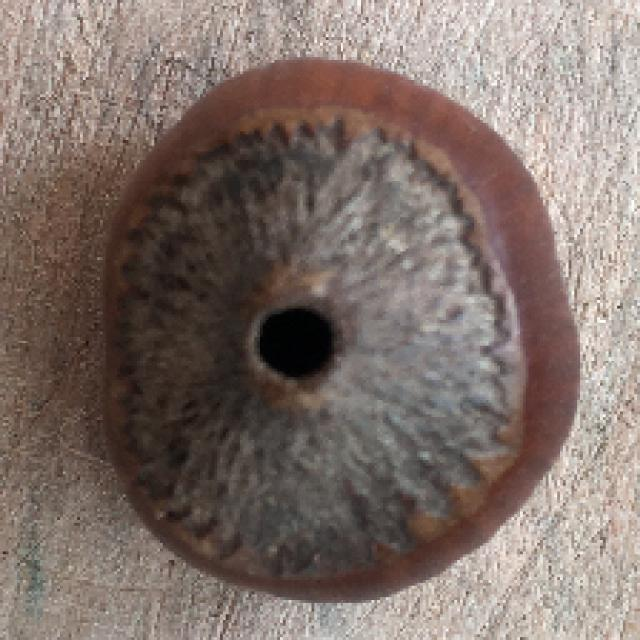damagedHazelnut: (70, 24, 590, 613)
